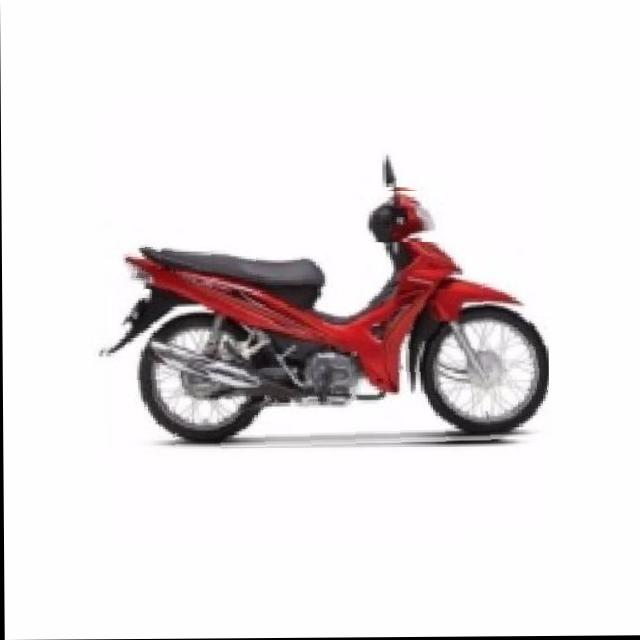All: (94, 187, 549, 451)
Head: (361, 191, 441, 243)
Tail: (118, 243, 173, 291)
